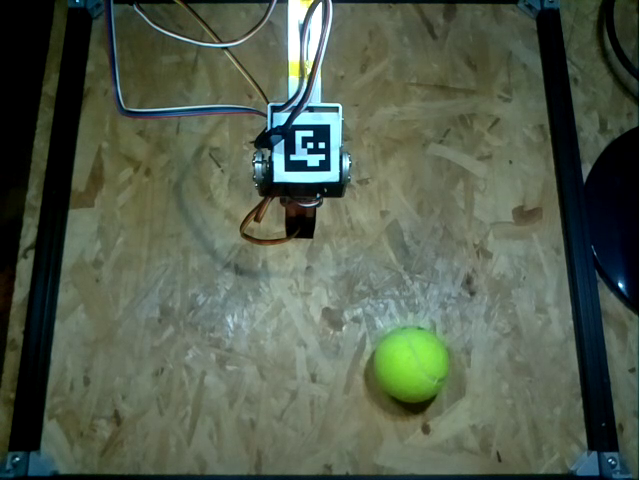tennis_ball: (372, 328, 451, 403)
